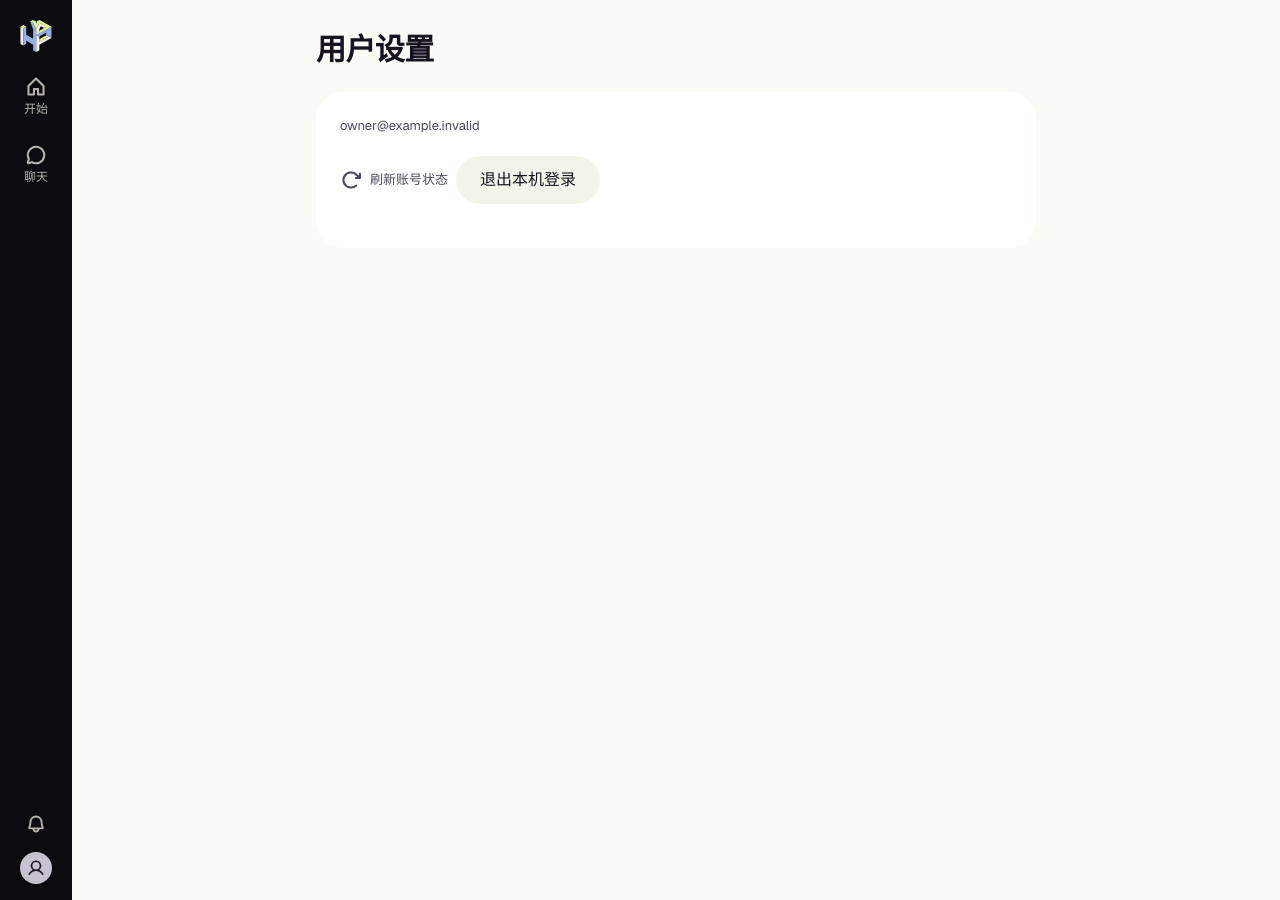
Scenario: refused account calls notify on use › keeps logout enabled when auth.logout is refused and leaves the state untouched
The width and height of the screenshot is (1280, 900).
Click the button "退出本机登录" at (528, 180), box [456, 156, 600, 204]
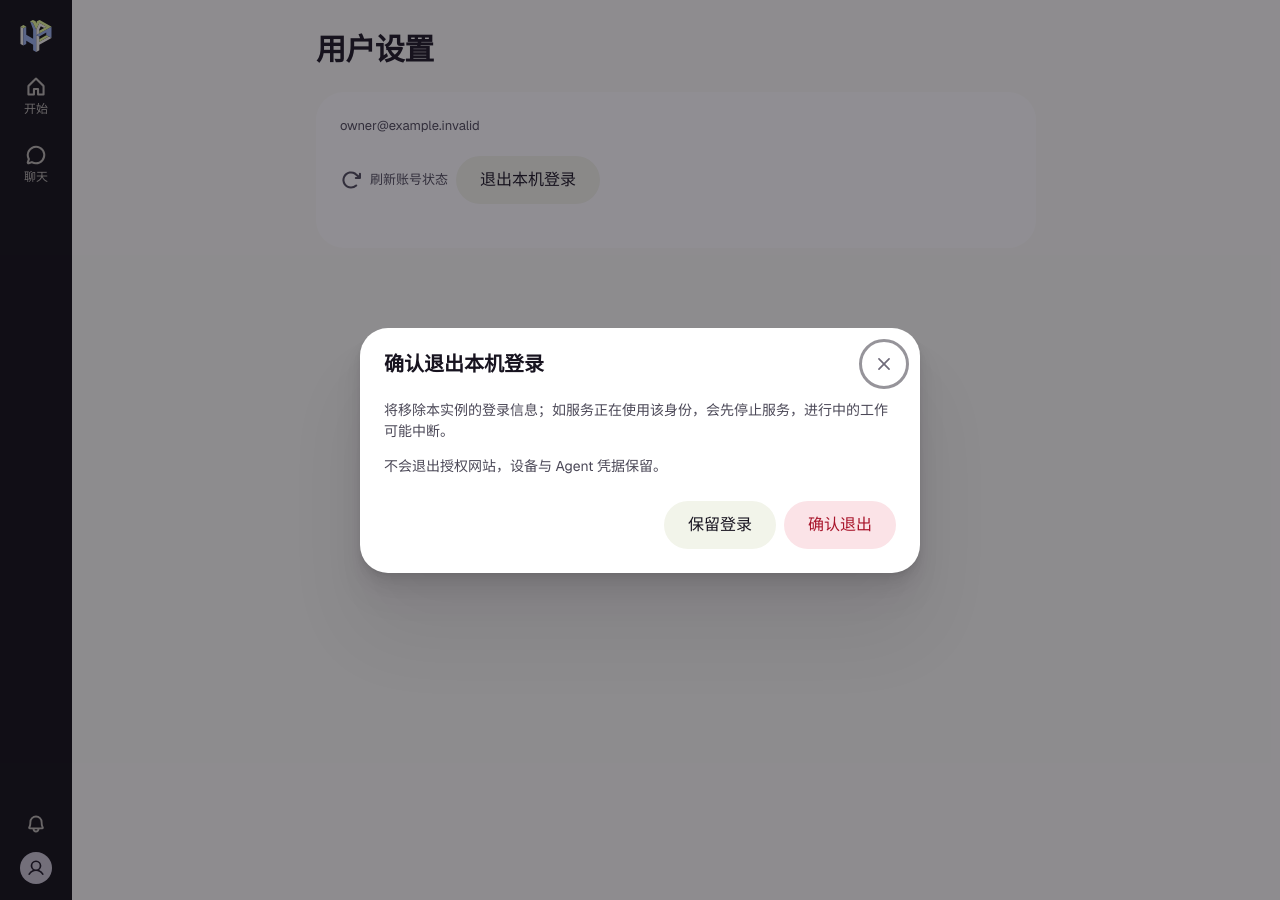
Click the button "确认退出" at (840, 524), box [784, 500, 896, 548]
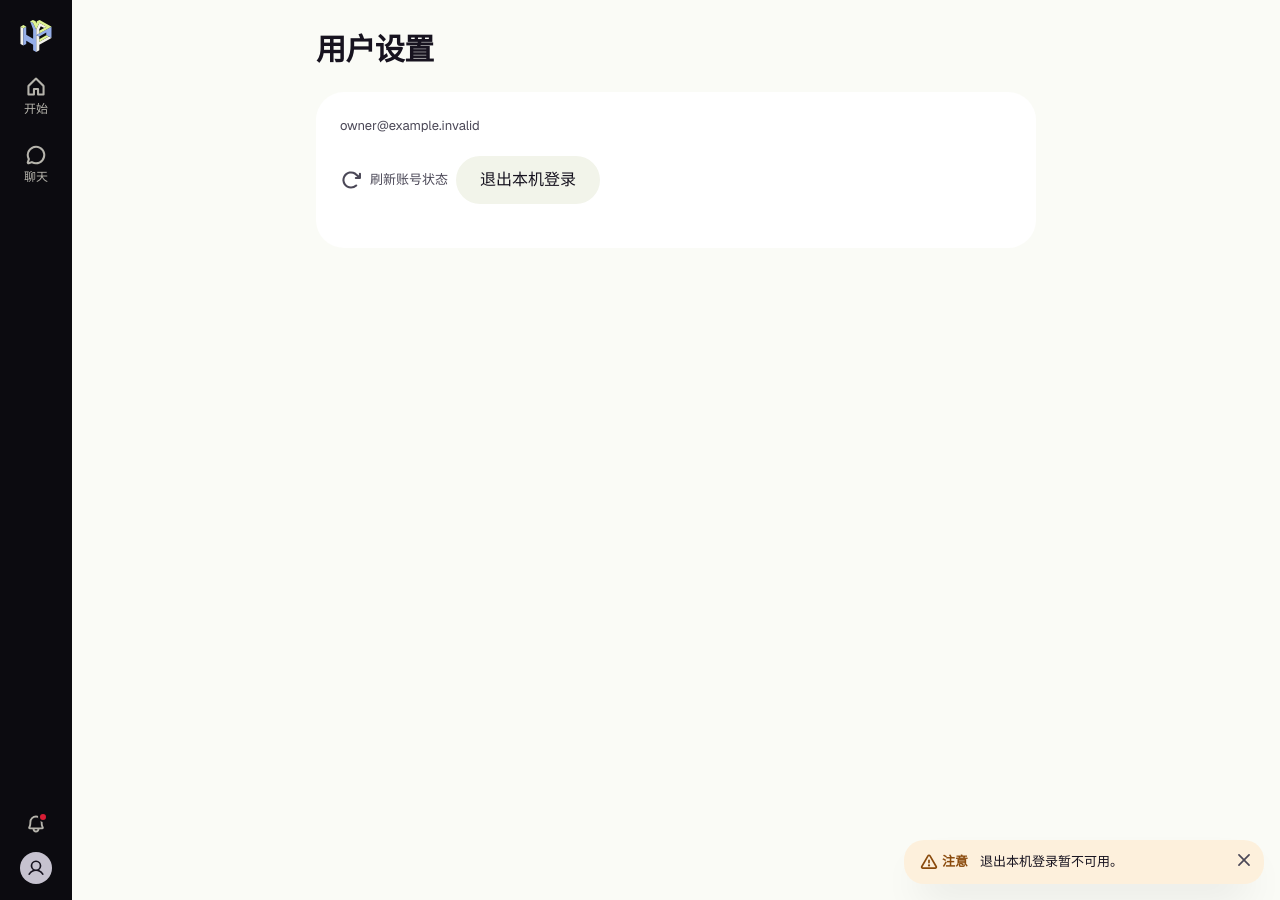
Check: the number of elements with class "toast-warning" is 1, box [904, 840, 1264, 884]
Check: the text with class "toast-text" reads "退出本机登录暂不可用。", box [980, 853, 1123, 870]
Check: the button named "关闭提示" is shown, box [1232, 848, 1256, 872]
Click the button named "通知中心" at (36, 824), box [16, 804, 56, 844]
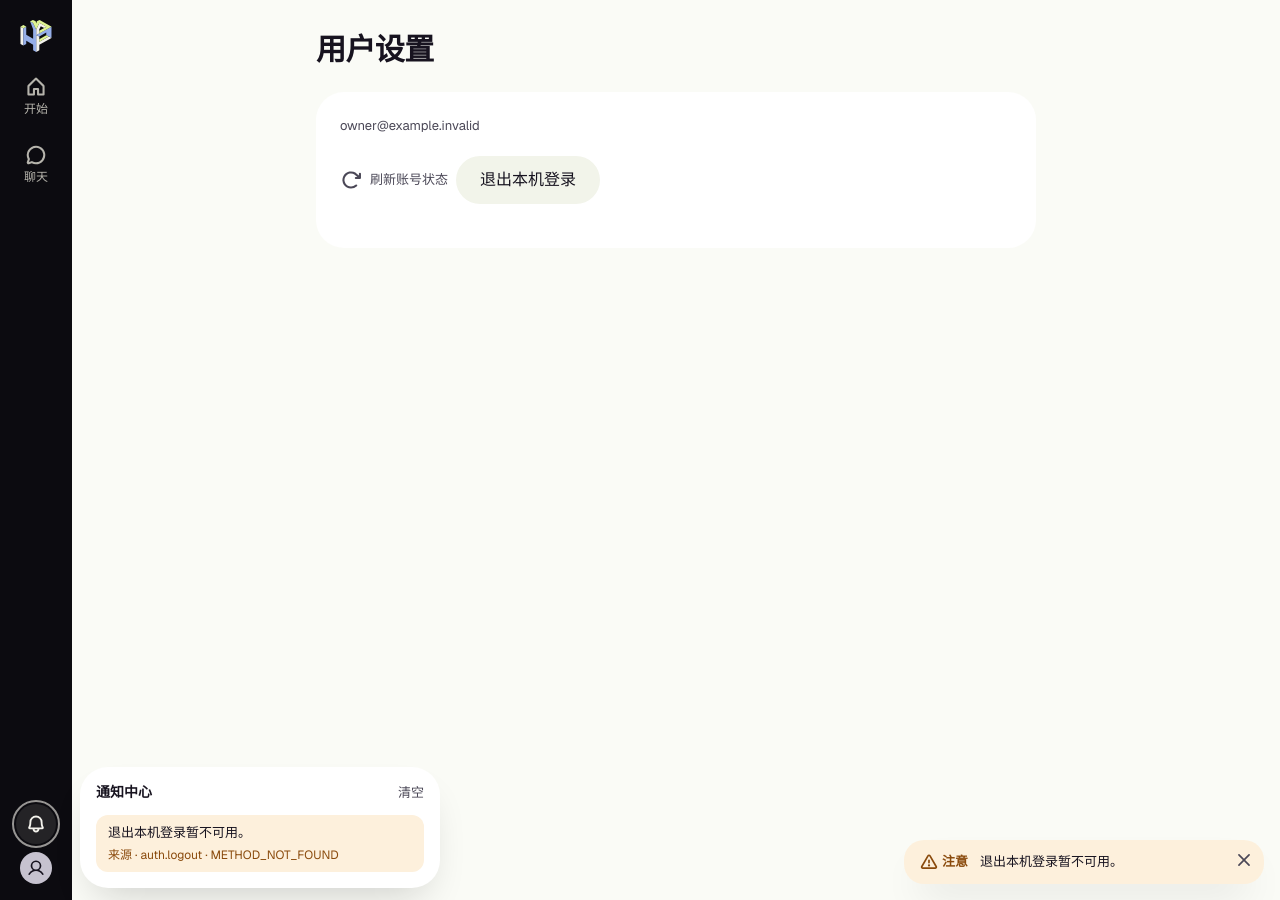
Check: the text "来源 · auth.logout · METHOD_NOT_FOUND" is shown, box [108, 847, 339, 863]
